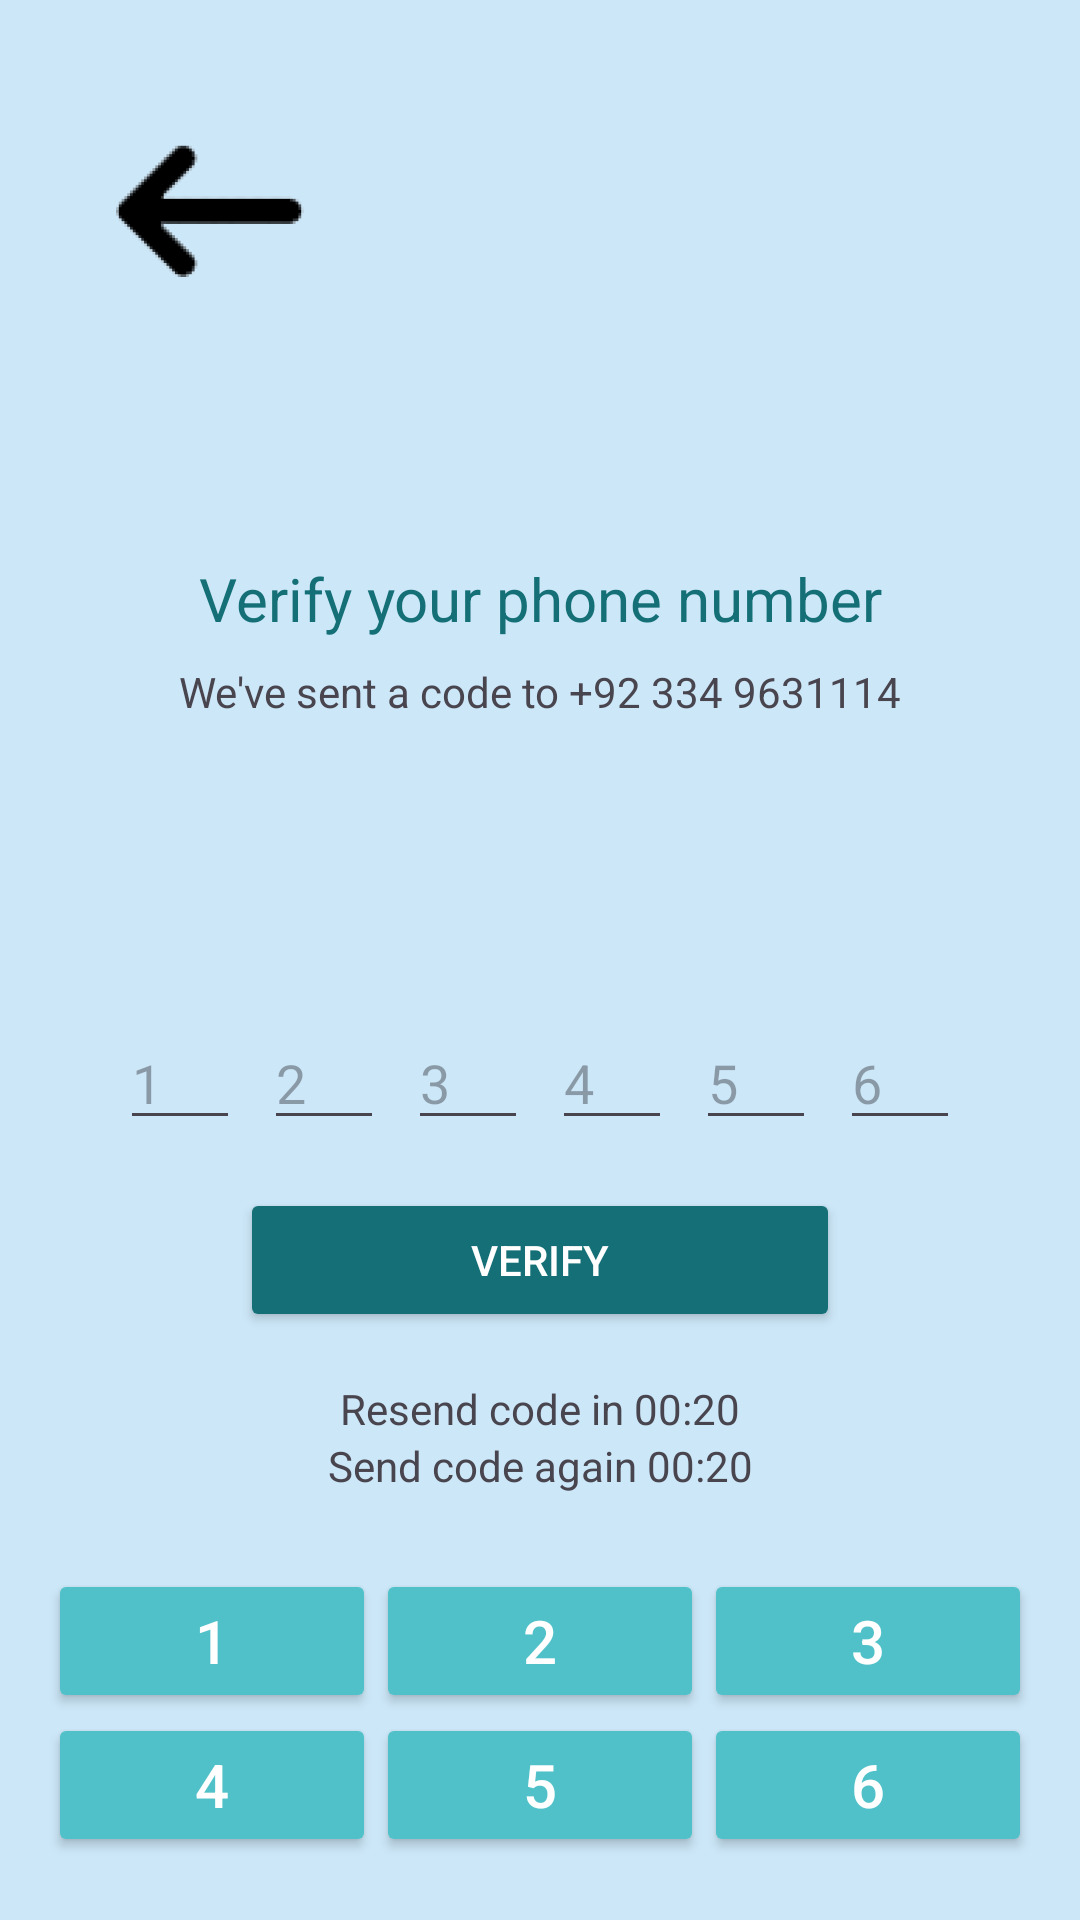

Where to tap for icons on this 1080*1920 app screen, as point (x, y):
arrow: point (209, 211)
